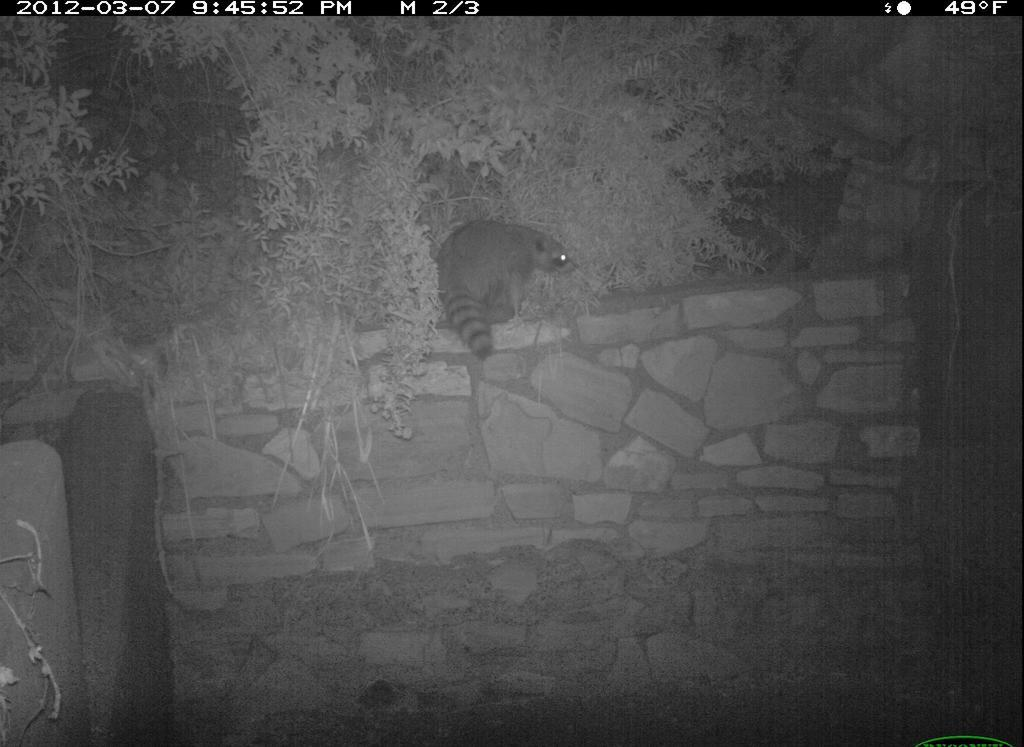raccoon: (434, 213, 579, 361)
